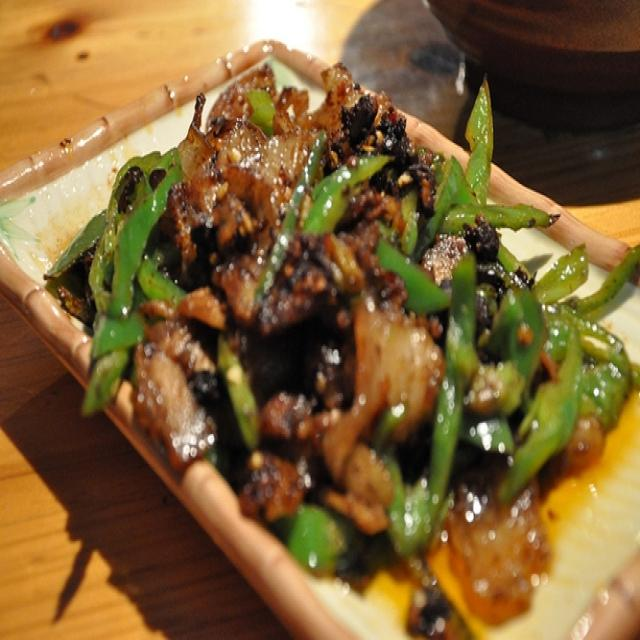猪肉菜式: (31, 44, 630, 631)
